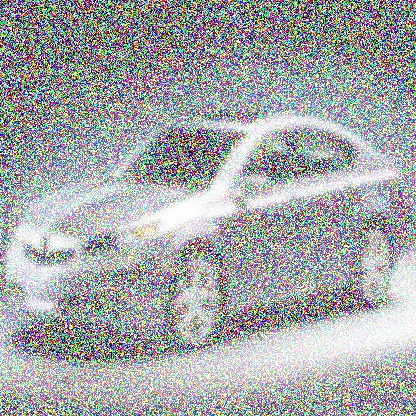Vehicle: (4, 106, 414, 356)
